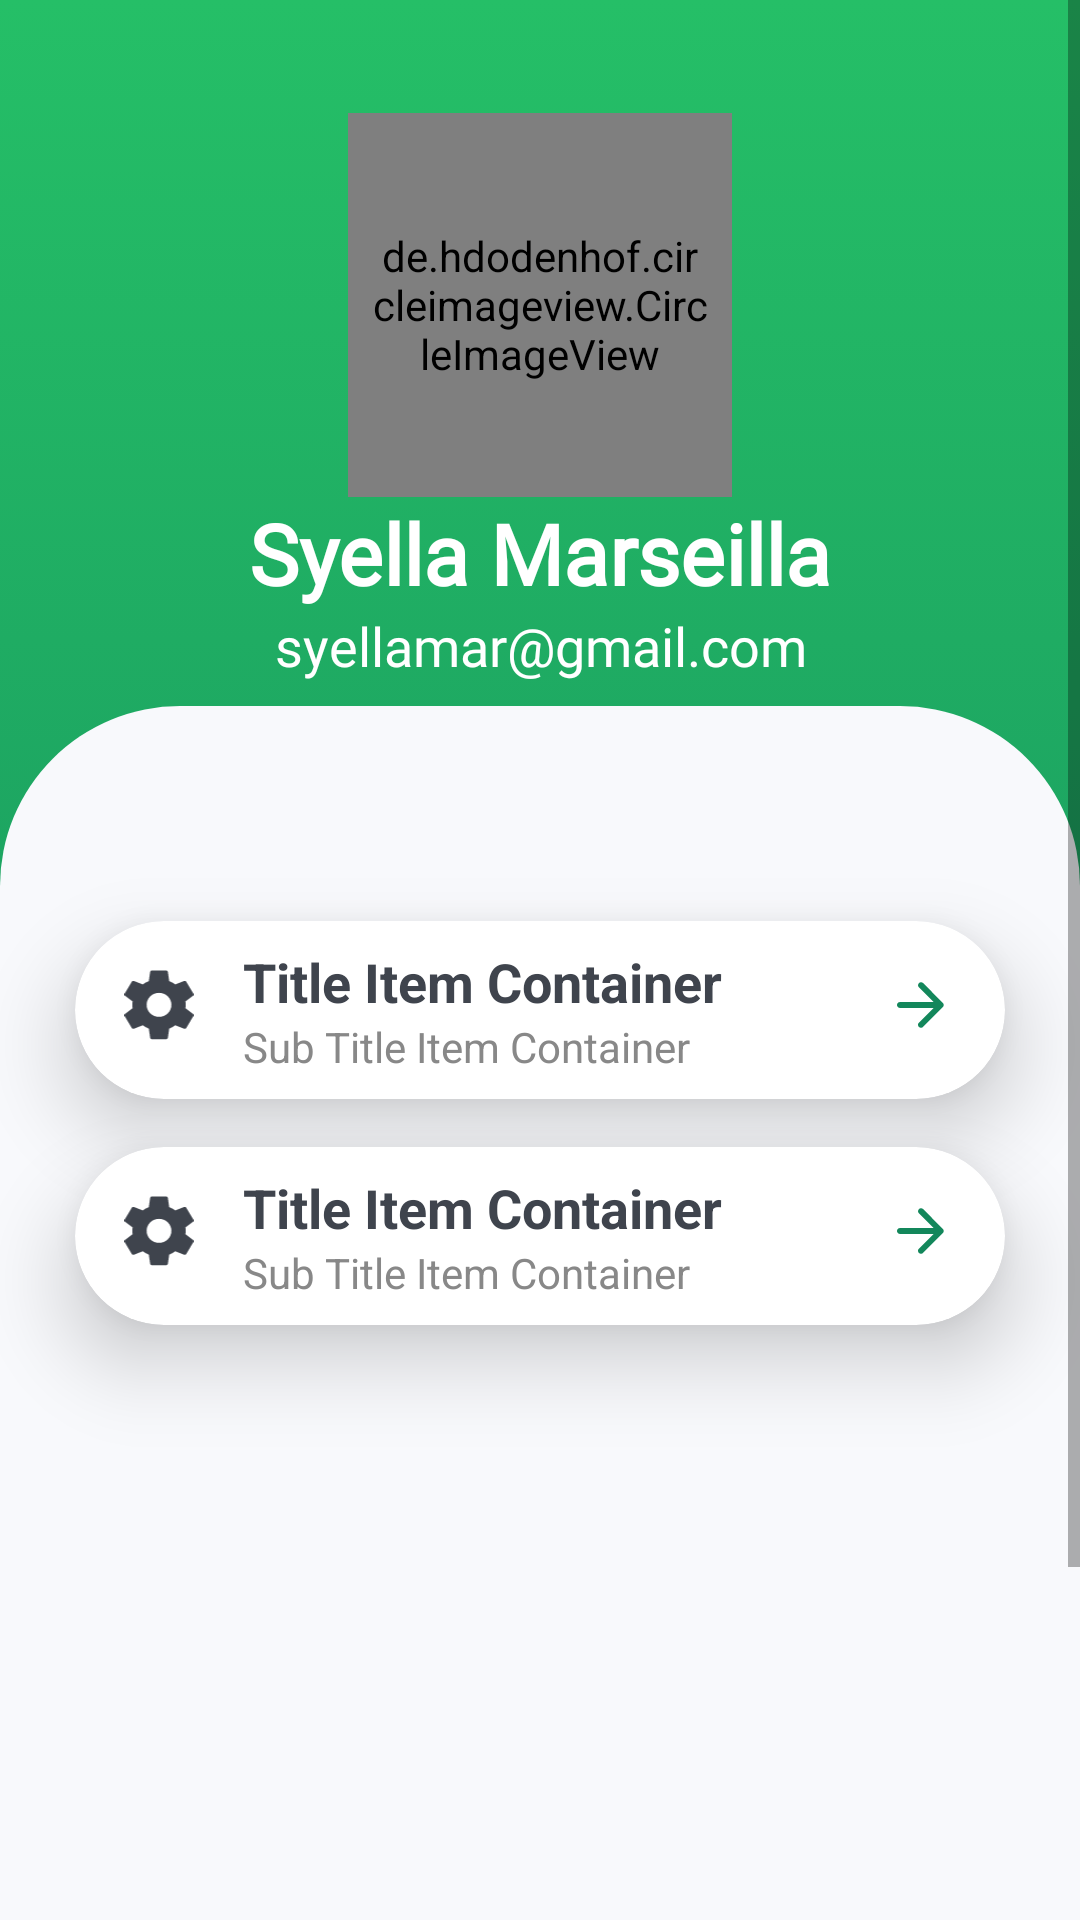

Locate icon controls on the screen. Image size 1080 x 1920, boxes as (x1, y1, x2, y2).
arrow forward: (897, 982, 944, 1028), (897, 1208, 944, 1254)
gear: (124, 970, 194, 1040), (124, 1196, 194, 1266)
